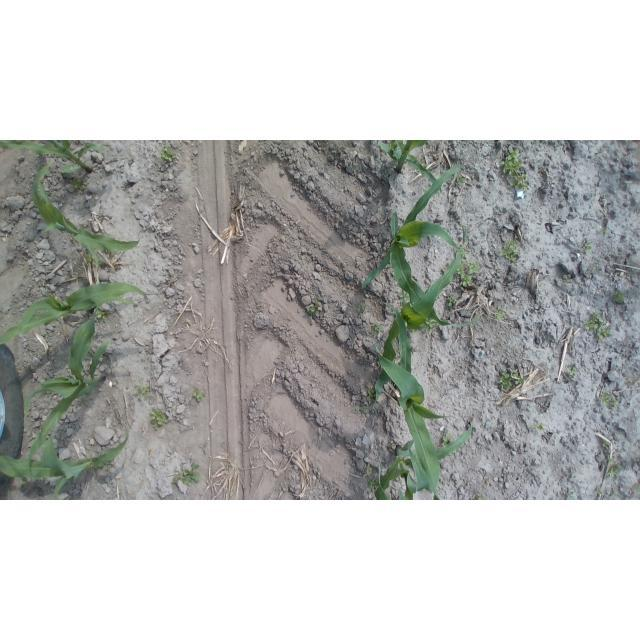Maize: (354, 220, 462, 414), (24, 298, 136, 475), (360, 164, 480, 328), (371, 342, 452, 500), (30, 160, 142, 263), (0, 419, 130, 500), (0, 282, 148, 346), (375, 420, 474, 501), (376, 140, 445, 194), (1, 140, 106, 174)
Weeds: (500, 148, 528, 191), (583, 310, 612, 340), (172, 461, 201, 485), (456, 261, 480, 288), (495, 370, 523, 392), (499, 238, 520, 261), (131, 376, 150, 401), (150, 409, 168, 431), (606, 455, 622, 478), (599, 391, 619, 406), (420, 319, 440, 332), (160, 148, 176, 163), (307, 300, 321, 317), (88, 254, 101, 268), (368, 478, 381, 492), (192, 389, 205, 402), (398, 289, 410, 303), (614, 291, 625, 304), (567, 365, 577, 379), (96, 310, 109, 320), (72, 179, 85, 189), (357, 300, 367, 313), (441, 434, 451, 447), (372, 323, 382, 335), (532, 423, 545, 432), (448, 296, 457, 308), (368, 389, 377, 401), (496, 309, 505, 320), (364, 462, 372, 474), (584, 242, 592, 253), (456, 175, 464, 184), (564, 276, 572, 285), (601, 439, 609, 447), (595, 489, 604, 496), (475, 493, 484, 500), (634, 484, 640, 494), (104, 463, 113, 469), (461, 252, 467, 261), (565, 495, 575, 500), (457, 243, 463, 249), (591, 264, 598, 269), (100, 358, 105, 363), (612, 494, 617, 499), (602, 228, 607, 233), (450, 214, 454, 220), (74, 141, 80, 144), (535, 141, 539, 144)
